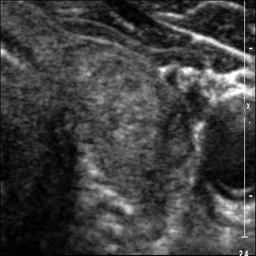mass: (64, 43, 189, 200)
